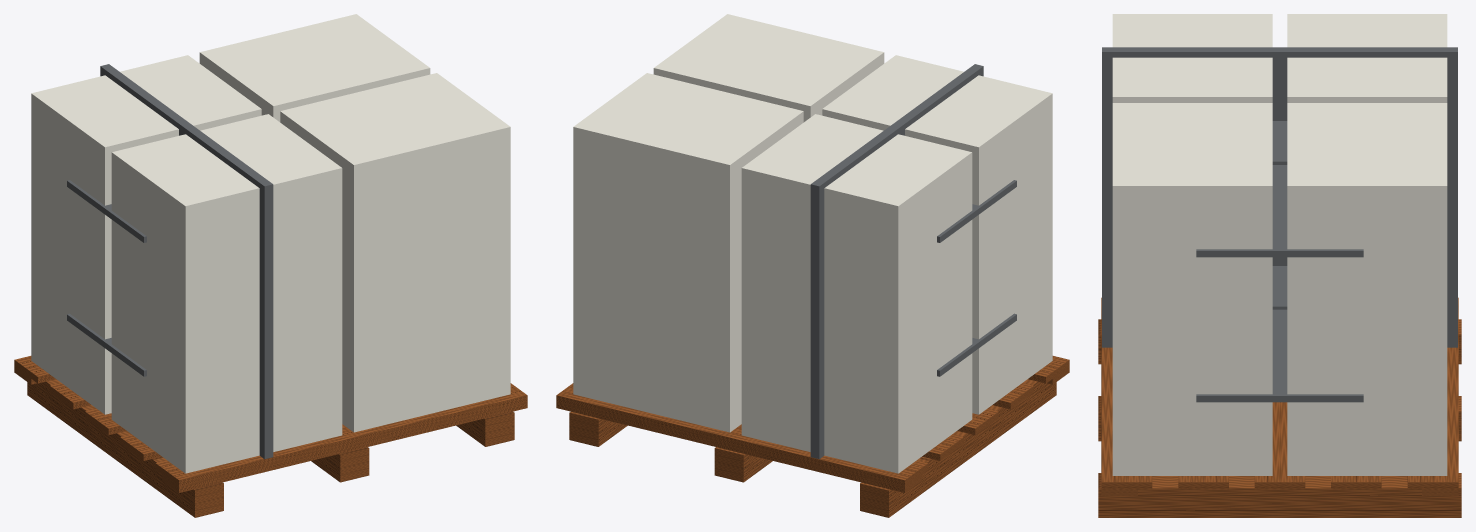
The model's file is pallet-of-stacked-cartons.glb.
The picture shows the model from 3 angles, left to right: view 1: azimuth 30°, elevation 25°; view 2: azimuth 150°, elevation 25°; view 3: azimuth 270°, elevation 25°; orthographic projection. The views are drawn at different scales.
Visible parts, largest first — view 1: machine-shop-and-factory-hall-pallet-boxes; view 2: machine-shop-and-factory-hall-pallet-boxes; view 3: machine-shop-and-factory-hall-pallet-boxes.
Part boxes in pixels (x1=…): machine-shop-and-factory-hall-pallet-boxes: x1=14, y1=14, x2=527, y2=517; machine-shop-and-factory-hall-pallet-boxes: x1=556, y1=14, x2=1069, y2=517; machine-shop-and-factory-hall-pallet-boxes: x1=1098, y1=14, x2=1461, y2=517.
Bounding box in the file's own units: 1.2 × 1.03 × 1.
Materials: 3 (1 with a texture image).
